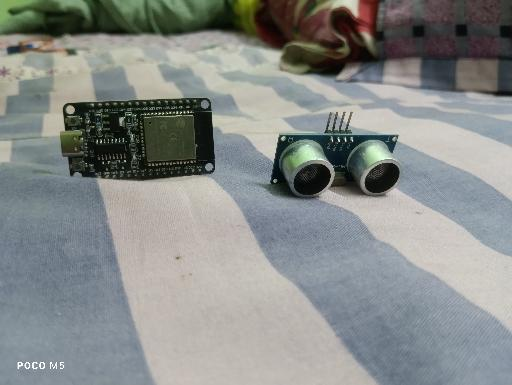Esp32: (60, 97, 216, 182)
sensor: (269, 111, 403, 200)
